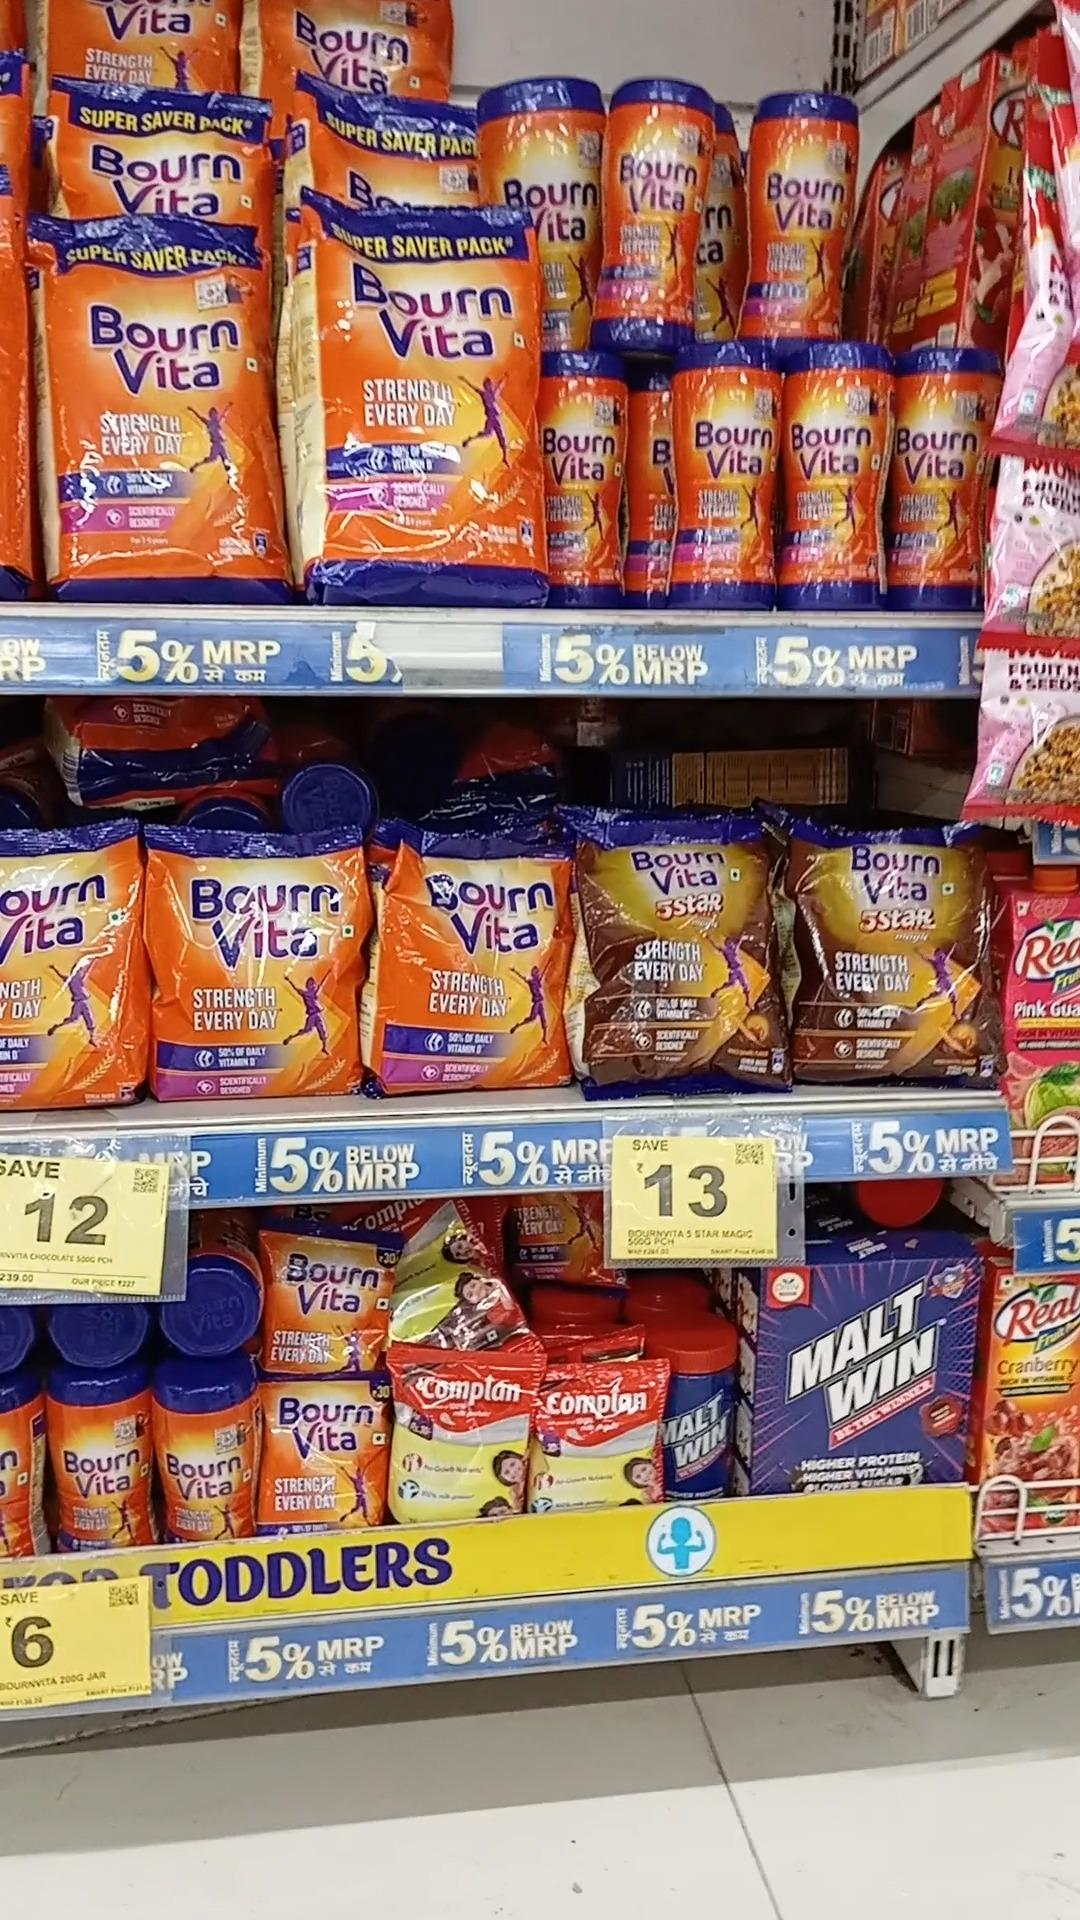BOURN_VITA_1_KG_POUCH: (299, 199, 547, 605), (47, 219, 285, 593)
BOURN_VITA_200_G_JAR: (158, 1365, 253, 1539), (54, 1379, 148, 1548)
BOURN_VITA_500_G_JAR: (596, 73, 709, 343), (786, 344, 894, 605), (746, 90, 849, 335), (675, 357, 774, 611), (906, 347, 973, 613)
BOURN_VITA_500_G_POUCH: (149, 828, 356, 1092), (378, 828, 564, 1092)
BOURN_VITA_75_G_POUCH: (265, 1229, 384, 1373), (264, 1382, 377, 1530)
BOURN_VITA_FIVE_STAR_MAGIC_500_G_POUCH: (580, 815, 782, 1087), (793, 816, 993, 1087)
